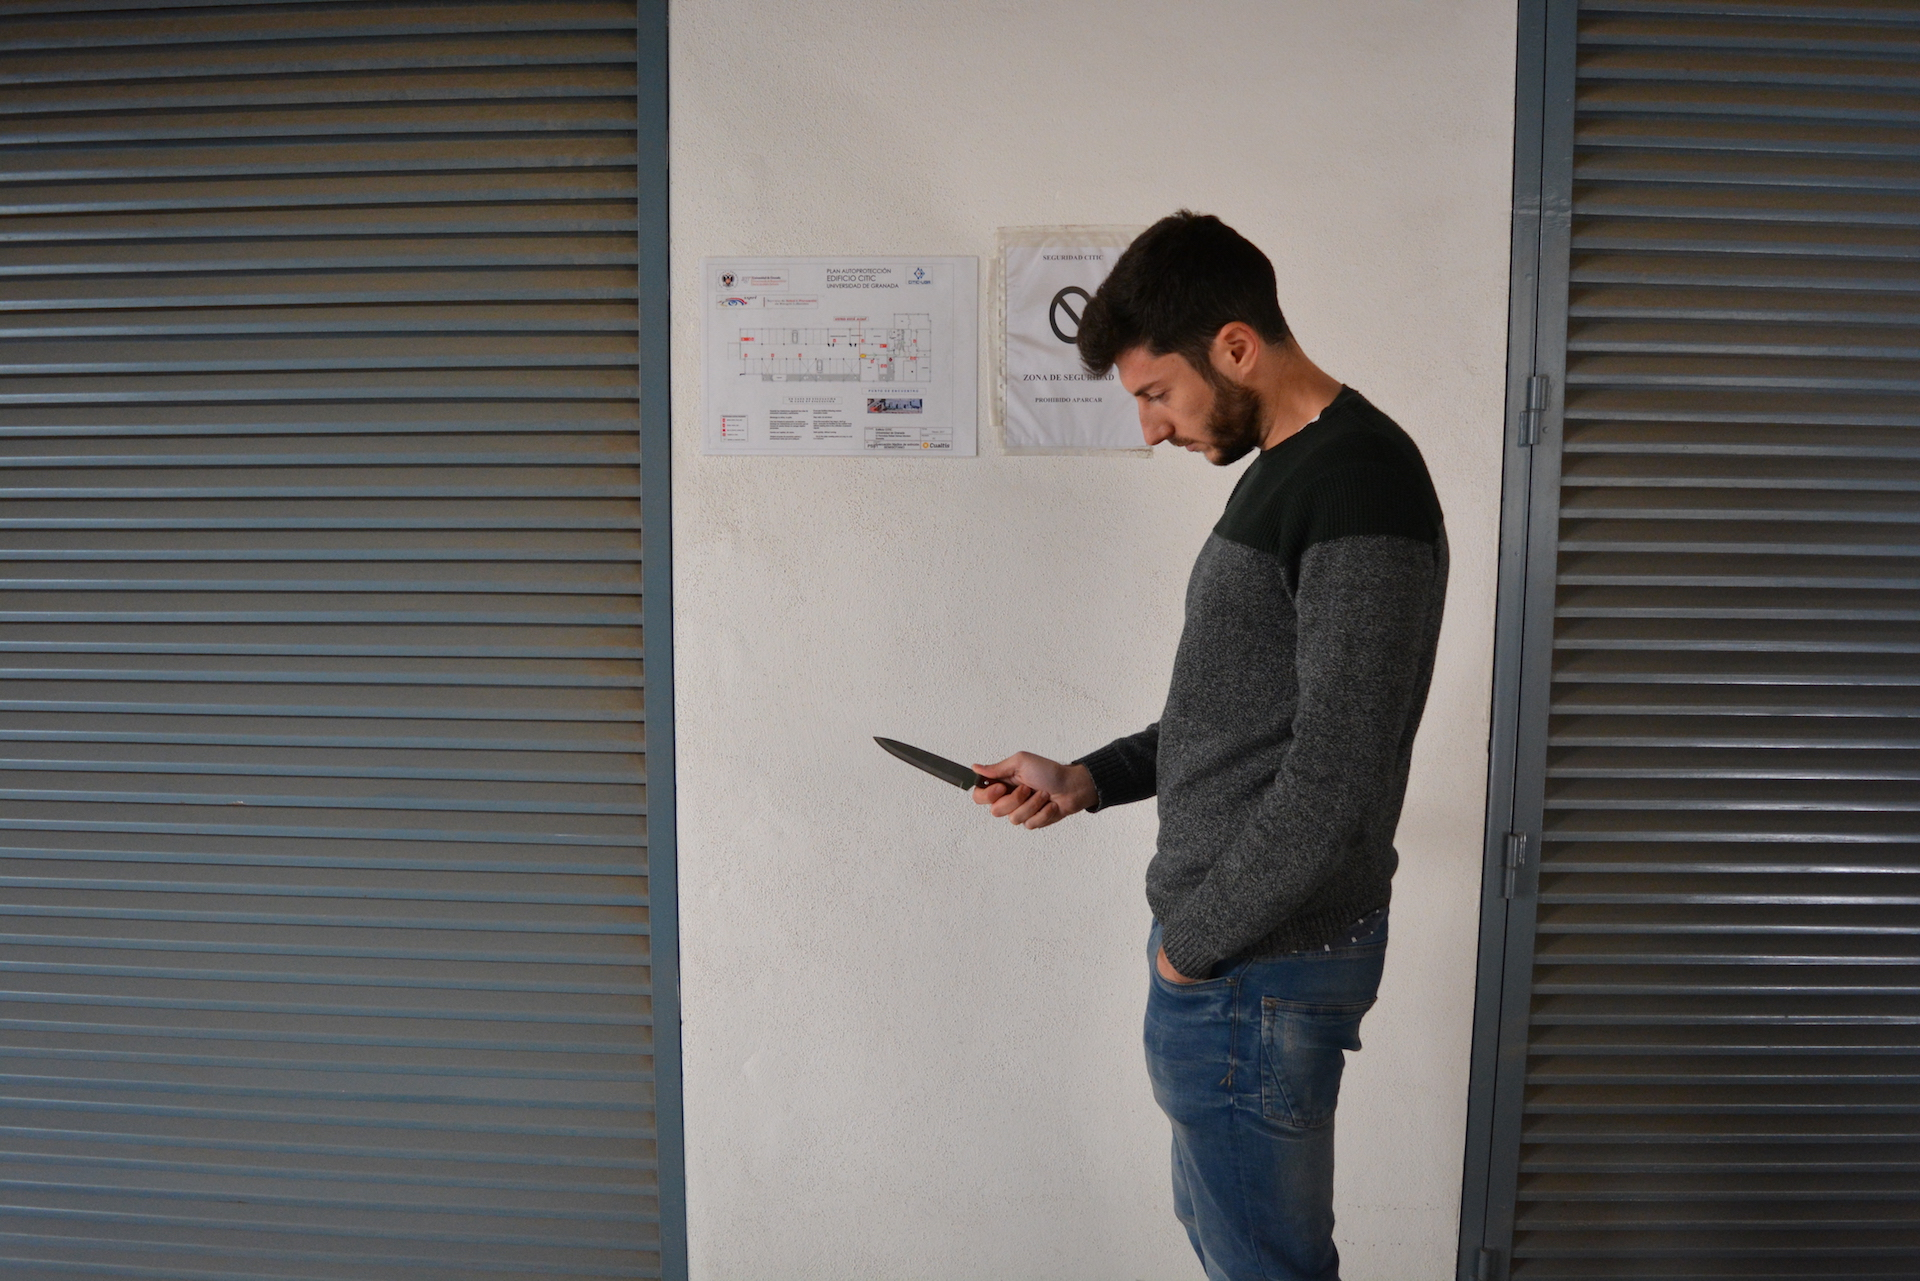knife: (865, 722, 1039, 826)
